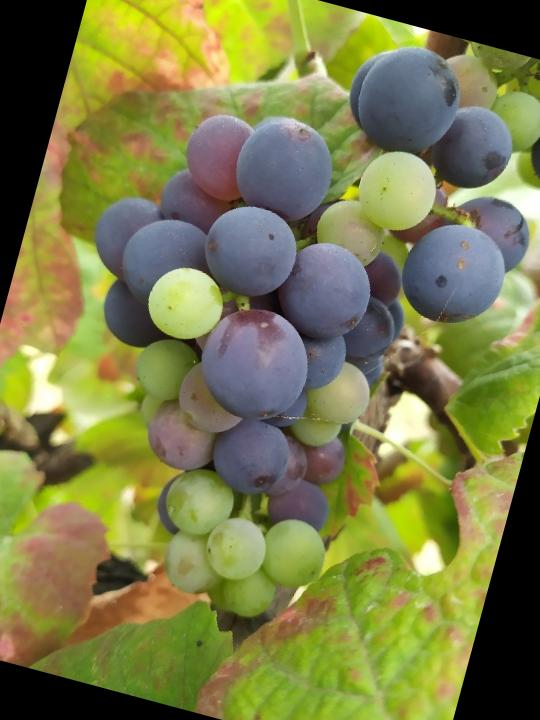grape: (4, 73, 450, 641)
